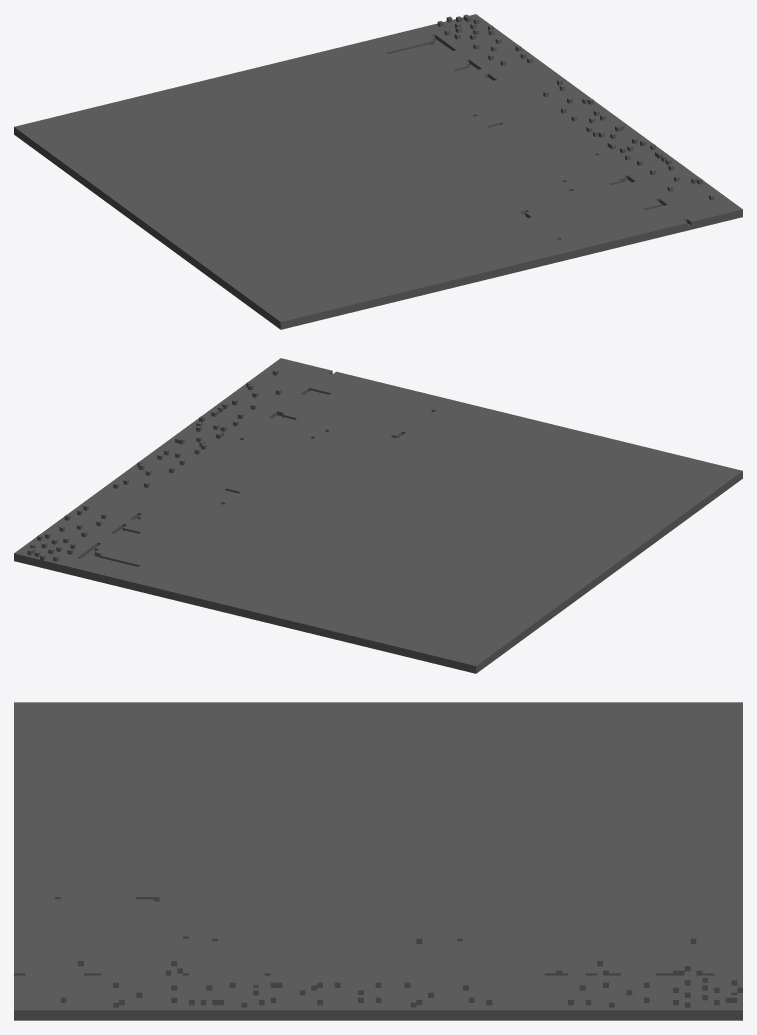
The model's file is kfarr_bases_valencia_lot.obj.
The picture shows the model from 3 angles, top to bottom: view 1: azimuth 30°, elevation 25°; view 2: azimuth 150°, elevation 25°; view 3: azimuth 270°, elevation 25°; orthographic projection. The views are drawn at different scales.
Bounding box in the file's own units: 125 × 3 × 125.
